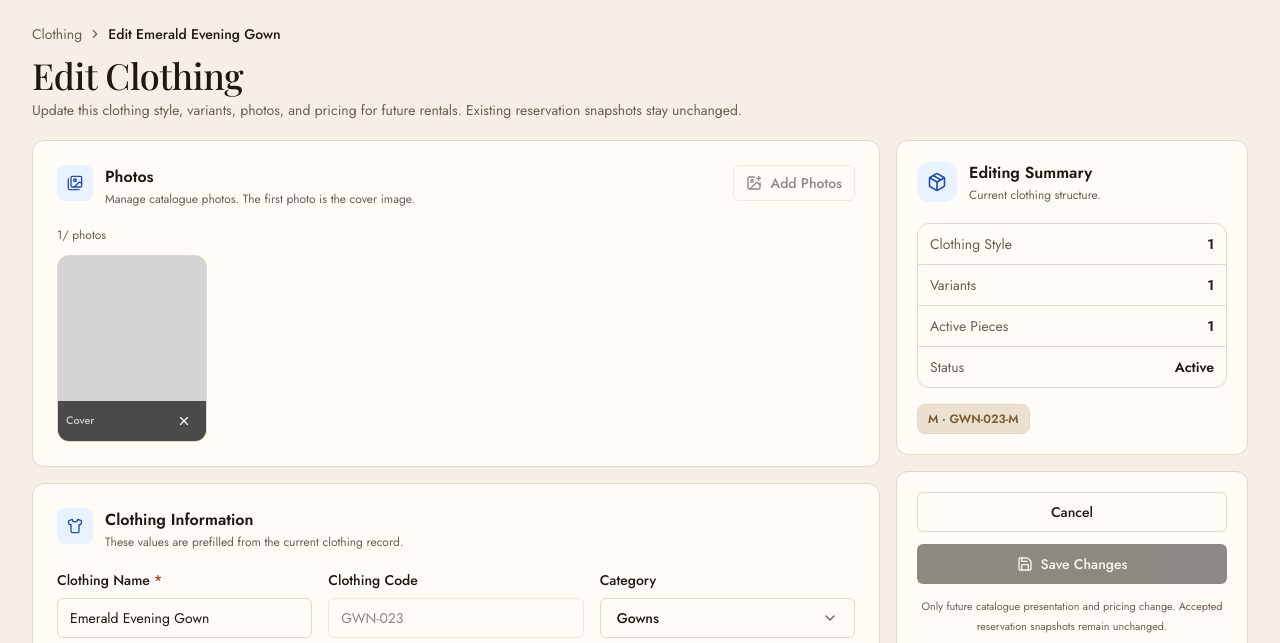
Test case: EditClothingPage › guards a rapid double submit so one save intent produces one product mutation
Expected: the heading "Edit Clothing" is shown, [32,51,243,99]
Replace the text in the field labelled "Clothing Name" with "One Intent Gown" at [185, 618], box [57,598,312,638]
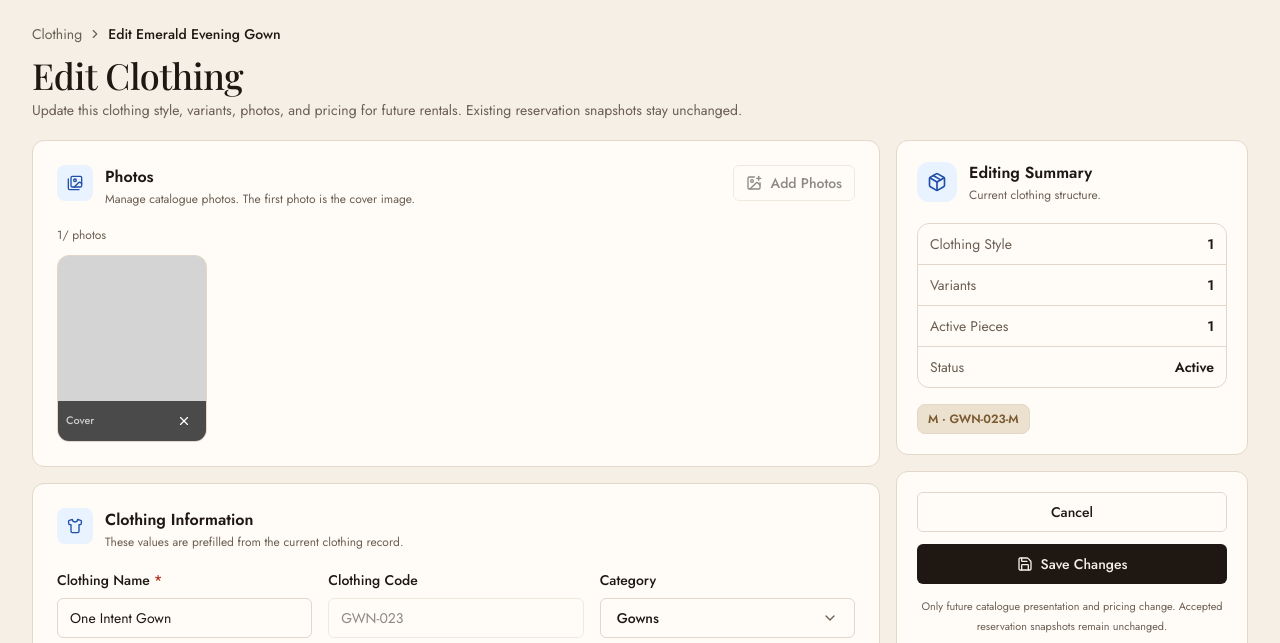
Click the button "Save Changes" at [1072, 564], box [917,544,1227,584]
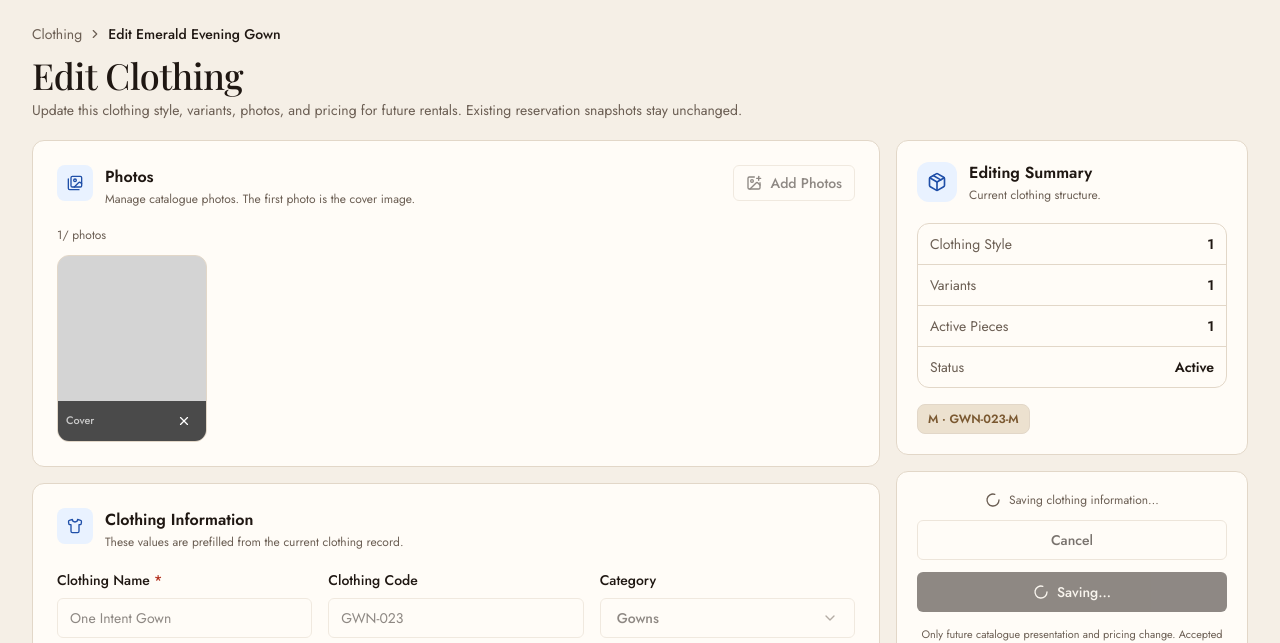
Click the button named "Save Changes" at [1072, 592], box [917,572,1227,612]
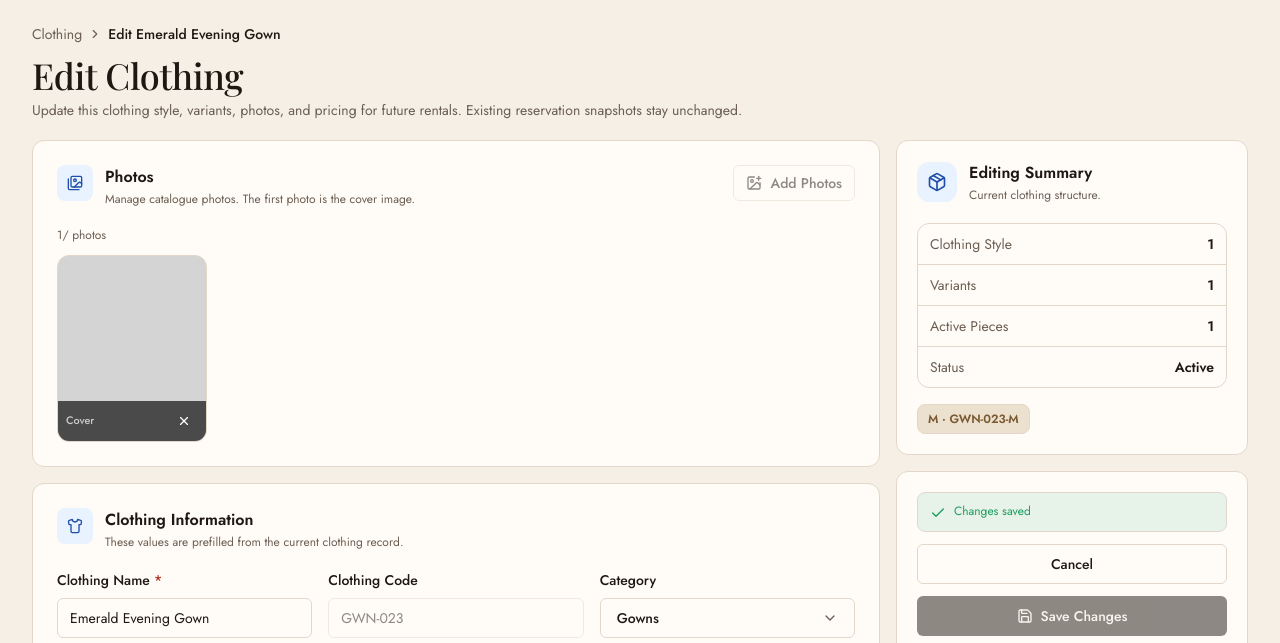
Expected: the message reads "Changes saved", [954,502,1031,520]
